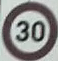Speed limit: (1, 5, 55, 53)
